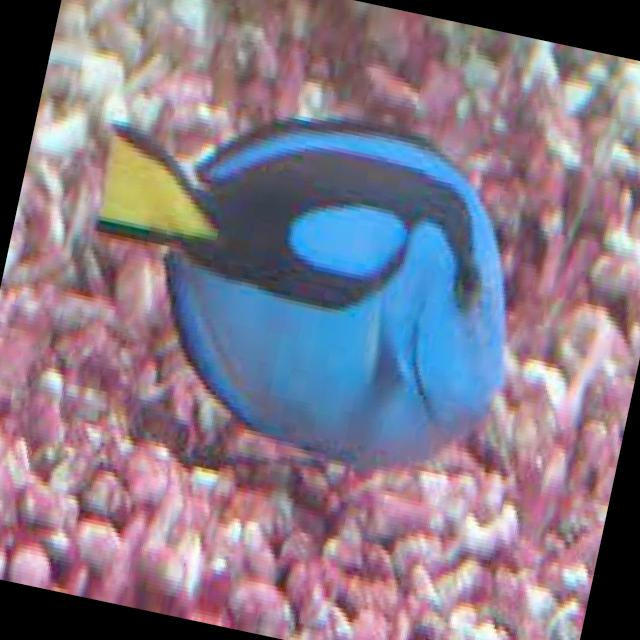TangFish: (52, 61, 551, 484)
